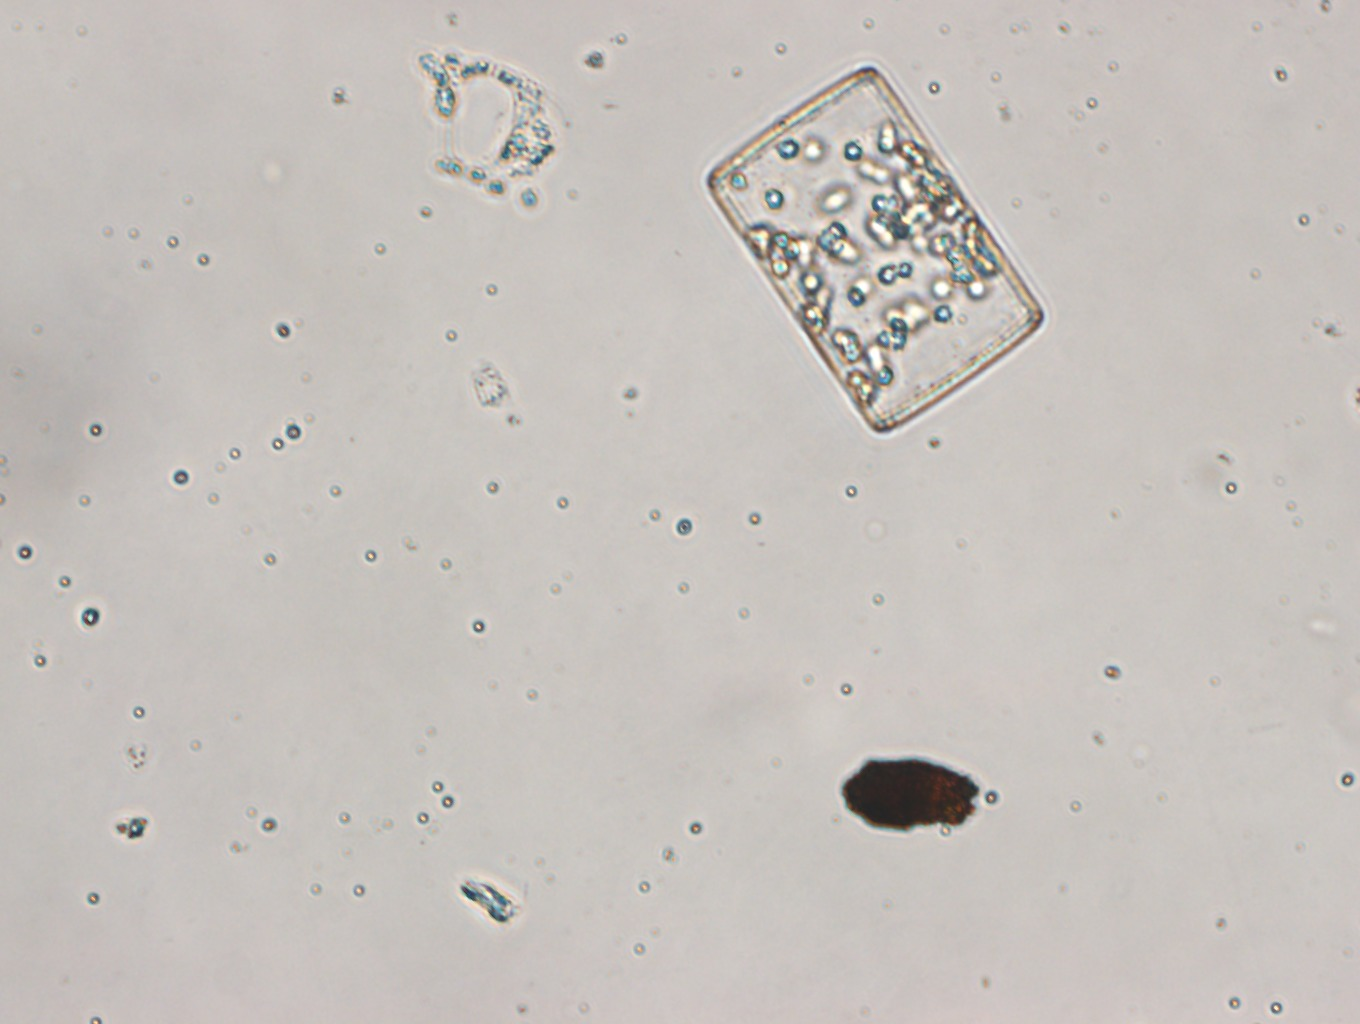guinardia flaccida: (705, 66, 1045, 435)
